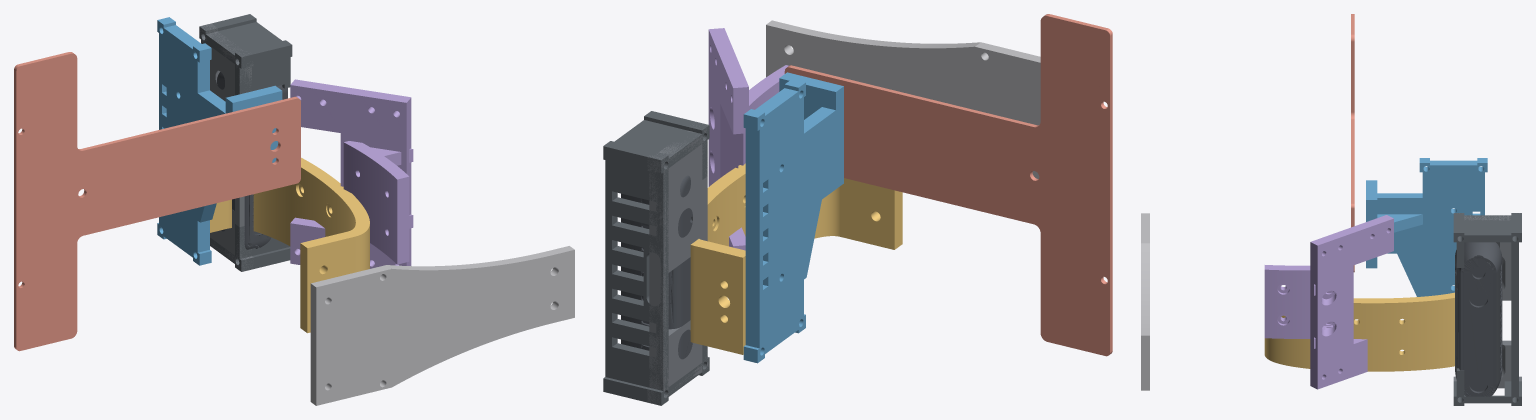
The model's file is go2_sensors.glb.
The picture shows the model from 3 angles, left to right: view 1: azimuth 30°, elevation 25°; view 2: azimuth 150°, elevation 25°; view 3: azimuth 270°, elevation 25°; orthographic projection. The views are drawn at different scales.
Visible parts, largest first — view 1: 雷达延长板-1, 雷达支撑件-1, 雷达转接件-1, 圆弧中间连接件-1, 相机支架与后盖一体件-1, 带保护壳的深度相机-1_相机保护主壳-1, 带保护壳的深度相机-1_相机前保护框-1, 带保护壳的深度相机-1_D435i深度相机-1; view 2: 雷达延长板-1, 相机支架与后盖一体件-1, 带保护壳的深度相机-1_相机保护主壳-1, 雷达支撑件-1, 圆弧中间连接件-1, 带保护壳的深度相机-1_相机前保护框-1, 雷达转接件-1, 带保护壳的深度相机-1_D435i深度相机-1; view 3: 雷达转接件-1, 相机支架与后盖一体件-1, 圆弧中间连接件-1, 带保护壳的深度相机-1_D435i深度相机-1, 带保护壳的深度相机-1_相机保护主壳-1, 雷达支撑件-1, 带保护壳的深度相机-1_相机前保护框-1, 雷达延长板-1.
Part boxes in pixels (x1,y1,x2,y2): 雷达延长板-1: (14, 52, 300, 351); 雷达支撑件-1: (310, 246, 574, 405); 雷达转接件-1: (290, 79, 413, 268); 圆弧中间连接件-1: (210, 157, 369, 333); 相机支架与后盖一体件-1: (157, 17, 282, 265); 带保护壳的深度相机-1_相机保护主壳-1: (199, 14, 292, 271); 带保护壳的深度相机-1_相机前保护框-1: (199, 23, 253, 271); 带保护壳的深度相机-1_D435i深度相机-1: (216, 72, 287, 249); 雷达延长板-1: (784, 14, 1112, 356); 相机支架与后盖一体件-1: (743, 72, 843, 363); 带保护壳的深度相机-1_相机保护主壳-1: (603, 111, 709, 405); 雷达支撑件-1: (766, 20, 1040, 178); 圆弧中间连接件-1: (690, 163, 902, 354); 带保护壳的深度相机-1_相机前保护框-1: (647, 121, 709, 405); 雷达转接件-1: (708, 28, 788, 250); 带保护壳的深度相机-1_D435i深度相机-1: (621, 175, 692, 359); 雷达转接件-1: (1264, 215, 1393, 389); 相机支架与后盖一体件-1: (1366, 158, 1487, 296); 圆弧中间连接件-1: (1264, 292, 1454, 371); 带保护壳的深度相机-1_D435i深度相机-1: (1455, 242, 1502, 396); 带保护壳的深度相机-1_相机保护主壳-1: (1453, 213, 1521, 405); 雷达支撑件-1: (1141, 213, 1149, 390); 带保护壳的深度相机-1_相机前保护框-1: (1453, 213, 1521, 388); 雷达延长板-1: (1351, 14, 1354, 272).
Size of the model in its own units: 0.2107 by 0.1515 by 0.2013.
